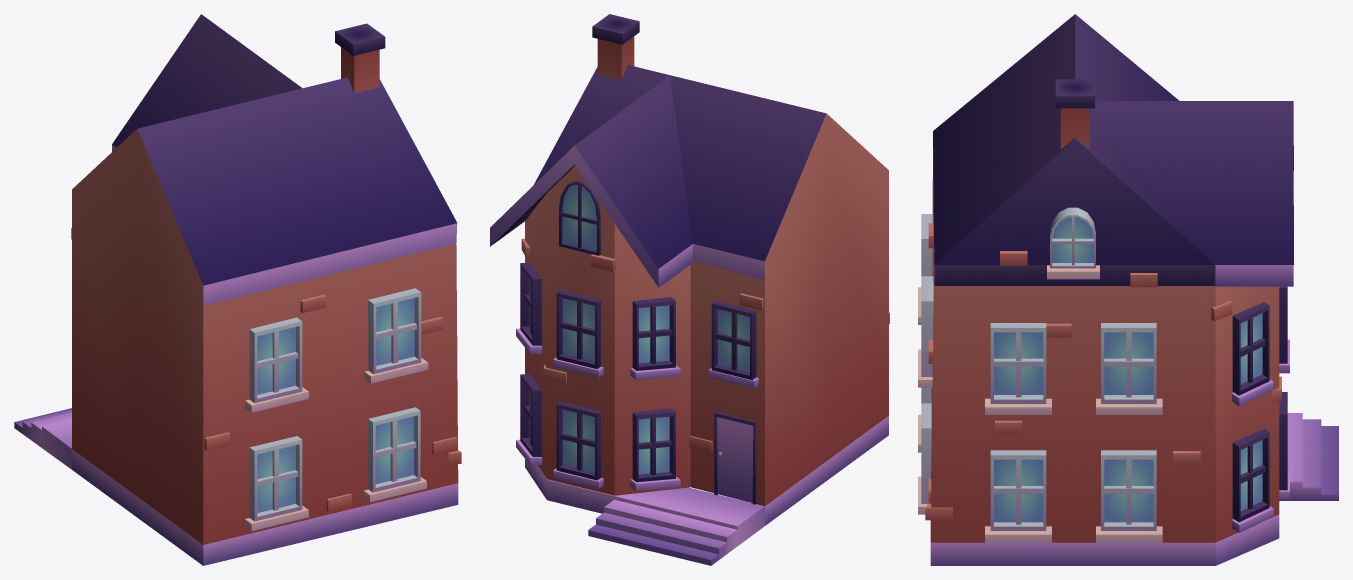
File: SM_House_L_Short_02.fbx
3 views of the same model, side by side, from view 1: azimuth 30°, elevation 25°; view 2: azimuth 150°, elevation 25°; view 3: azimuth 270°, elevation 25° (orthographic). The views are drawn at different scales.
Parts seen in each view (by area): view 1: SM_House_L_Short_02; view 2: SM_House_L_Short_02; view 3: SM_House_L_Short_02.
Part boxes in pixels (x1,y1,x2,y2): SM_House_L_Short_02: (14,14,461,565); SM_House_L_Short_02: (490,14,889,565); SM_House_L_Short_02: (918,14,1338,565).
Bounding box in the file's own units: 7.23 × 9.06 × 10.97.
